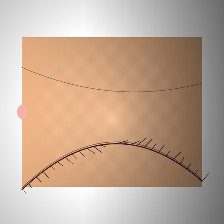corneal_ulcer: (98, 83, 147, 122)
